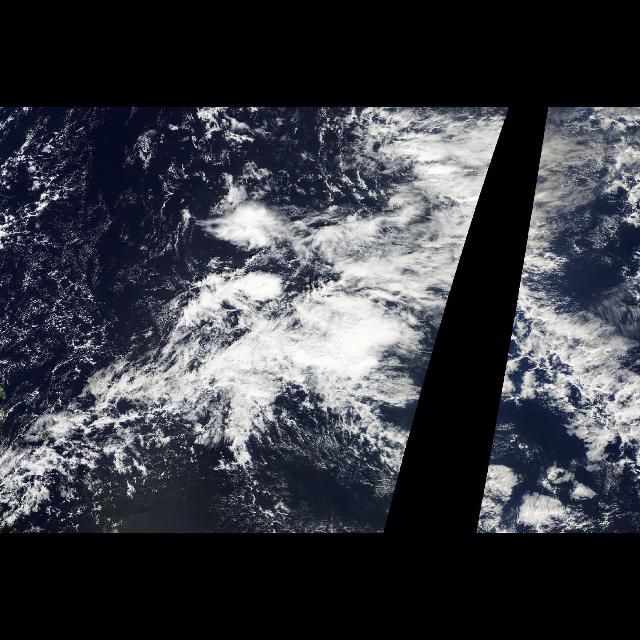Gravel: (3, 191, 129, 371)
